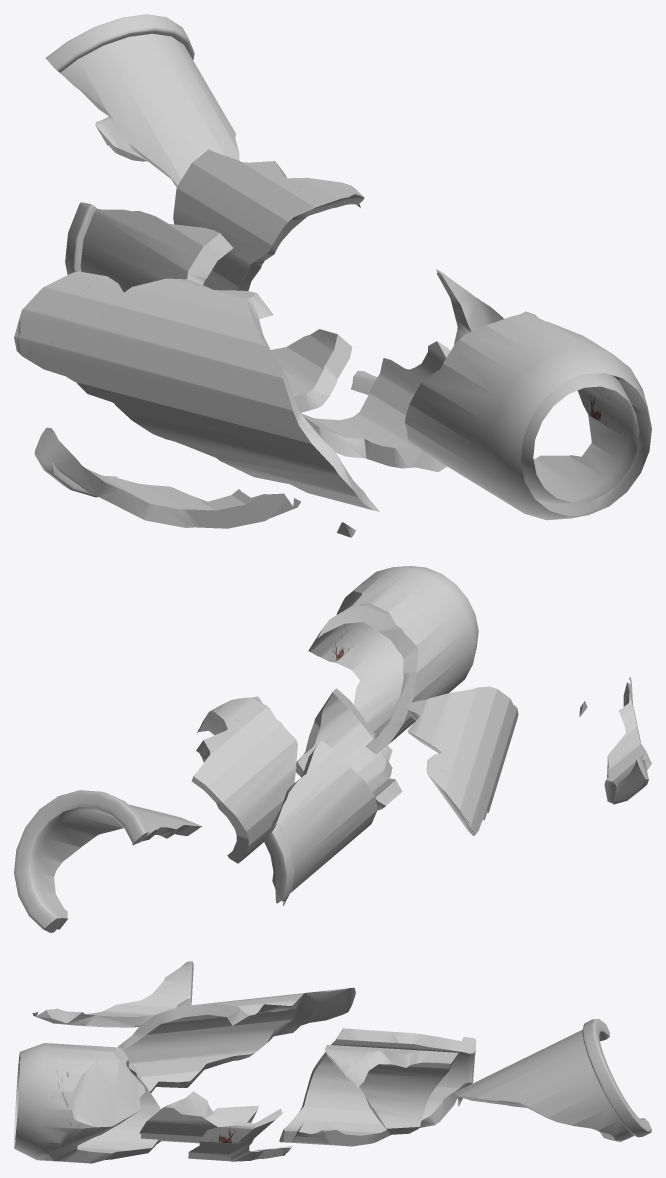
The model's file is broken chem 1.fbx.
The picture shows the model from 3 angles, top to bottom: view 1: azimuth 30°, elevation 25°; view 2: azimuth 150°, elevation 25°; view 3: azimuth 270°, elevation 25°; orthographic projection. The views are drawn at different scales.
Visible parts, largest first — view 1: pasted__pasted__pasted__shard9, pasted__pasted__pasted__shard11, pasted__pasted__pasted__shard7, pasted__pasted__pasted__shard15, pasted__pasted__pasted__shard12, pasted__pasted__pasted__shard17, pasted__pasted__pasted__shard10, pasted__pasted__pasted__shard6; view 2: pasted__pasted__pasted__shard11, pasted__pasted__pasted__shard12, pasted__pasted__pasted__shard9, pasted__pasted__pasted__shard15, pasted__pasted__pasted__shard7, pasted__pasted__pasted__shard10, pasted__pasted__pasted__shard17; view 3: pasted__pasted__pasted__shard11, pasted__pasted__pasted__shard9, pasted__pasted__pasted__shard7, pasted__pasted__pasted__shard15, pasted__pasted__pasted__shard12, pasted__pasted__pasted__shard17, pasted__pasted__pasted__shard10, pasted__pasted__pasted__shard6.
Part boxes in pixels (box(x1,y1,x2,y2)): pasted__pasted__pasted__shard9: box(14, 271, 379, 511); pasted__pasted__pasted__shard11: box(405, 311, 651, 520); pasted__pasted__pasted__shard7: box(45, 14, 239, 187); pasted__pasted__pasted__shard15: box(65, 202, 352, 412); pasted__pasted__pasted__shard12: box(173, 149, 364, 291); pasted__pasted__pasted__shard17: box(34, 427, 300, 528); pasted__pasted__pasted__shard10: box(301, 341, 450, 471); pasted__pasted__pasted__shard6: box(351, 269, 504, 394); pasted__pasted__pasted__shard11: box(308, 566, 478, 754); pasted__pasted__pasted__shard12: box(191, 697, 297, 863); pasted__pasted__pasted__shard9: box(405, 686, 518, 835); pasted__pasted__pasted__shard15: box(264, 740, 377, 905); pasted__pasted__pasted__shard7: box(14, 790, 202, 932); pasted__pasted__pasted__shard10: box(296, 688, 402, 810); pasted__pasted__pasted__shard17: box(604, 676, 651, 804); pasted__pasted__pasted__shard11: box(14, 1043, 161, 1163); pasted__pasted__pasted__shard9: box(117, 987, 355, 1092); pasted__pasted__pasted__shard7: box(454, 1019, 651, 1141); pasted__pasted__pasted__shard15: box(279, 1028, 476, 1146); pasted__pasted__pasted__shard12: box(325, 1045, 458, 1134); pasted__pasted__pasted__shard17: box(32, 961, 193, 1027); pasted__pasted__pasted__shard10: box(139, 1091, 258, 1143); pasted__pasted__pasted__shard6: box(188, 1109, 292, 1161).
Size of the model in its own units: 0.208 by 0.0856 by 0.3576.
Materials: 1 (1 with a texture image).
